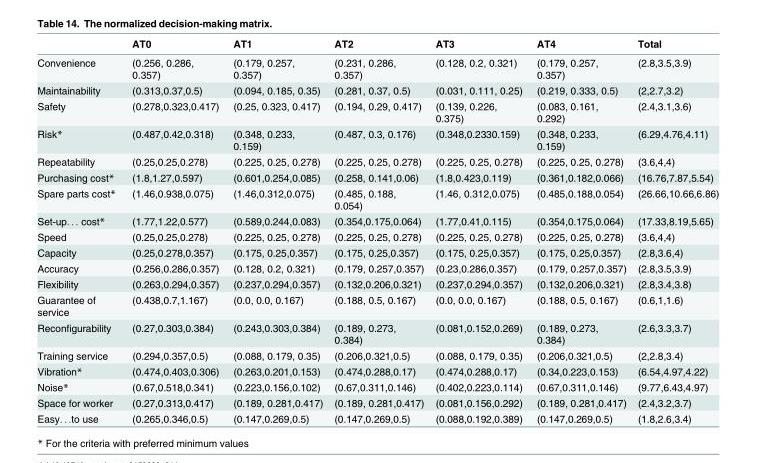table: (36, 37, 718, 424)
table column: (528, 37, 631, 424), (123, 37, 225, 424), (225, 37, 327, 424), (327, 37, 429, 424), (429, 37, 528, 424), (36, 37, 123, 424), (631, 37, 718, 424)
table column header: (36, 37, 718, 52)
table row: (36, 52, 718, 82), (36, 97, 718, 125), (36, 125, 718, 153), (36, 291, 718, 319), (36, 319, 718, 347), (36, 185, 718, 212), (36, 153, 718, 169), (36, 169, 718, 185), (36, 212, 718, 228), (36, 228, 718, 244), (36, 244, 718, 260), (36, 275, 718, 291), (36, 362, 718, 378), (36, 378, 718, 394), (36, 394, 718, 410), (36, 37, 718, 52), (36, 82, 718, 97), (36, 260, 718, 275), (36, 347, 718, 362), (36, 410, 718, 424)
